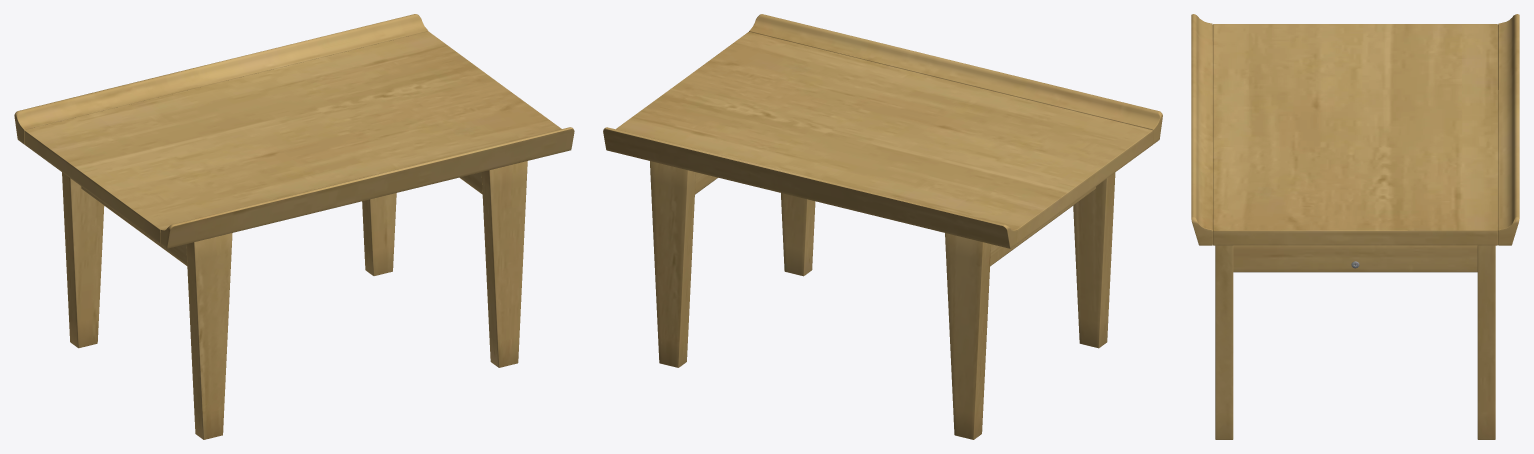
The picture shows the model from 3 angles, left to right: view 1: azimuth 30°, elevation 25°; view 2: azimuth 150°, elevation 25°; view 3: azimuth 270°, elevation 25°; orthographic projection. The views are drawn at different scales.
Parts seen in each view (by area): view 1: 60587719_side_table; view 2: 60587719_side_table; view 3: 60587719_side_table.
Boxes of the visible parts, x1,y1,x2,y2 form: 60587719_side_table: (14, 14, 574, 439); 60587719_side_table: (603, 14, 1162, 439); 60587719_side_table: (1191, 14, 1519, 439).
Bounding box in the file's own units: 0.5793 × 0.3197 × 0.3892.
Materials: 1 (1 with a texture image).
